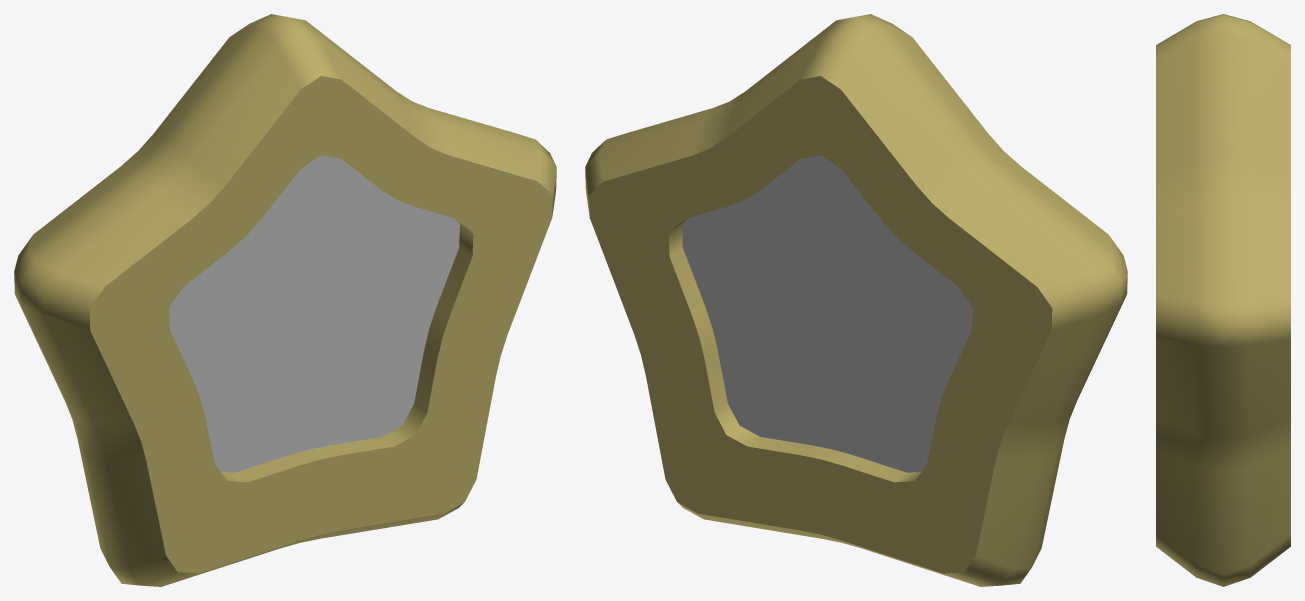
Rendered from Star.fbx.
3 renders of one model, left to right at view 1: azimuth 30°, elevation 25°; view 2: azimuth 150°, elevation 25°; view 3: azimuth 270°, elevation 25°, orthographic. The views are drawn at different scales.
Visible parts, largest first — view 1: pCylinder2; view 2: pCylinder2; view 3: pCylinder2.
Part boxes in pixels (left/top/right/bottom): pCylinder2: left=14, top=14, right=556, bottom=586; pCylinder2: left=585, top=14, right=1127, bottom=586; pCylinder2: left=1156, top=14, right=1290, bottom=586.
Bounding box in the file's own units: 2.08 × 2 × 0.4866.
